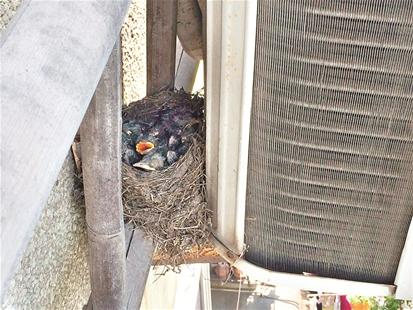bird-nest: (122, 88, 207, 238)
